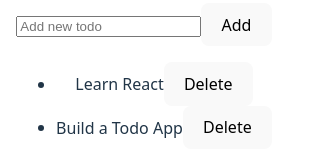
Test: TodoList › deletes a todo
Click the button "Delete" next to "Learn React".
click(208, 84)  # box [164,62,253,106]
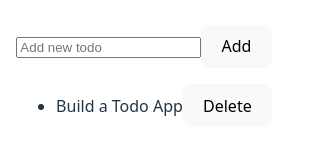
Check: the list item "Learn React" is gone
